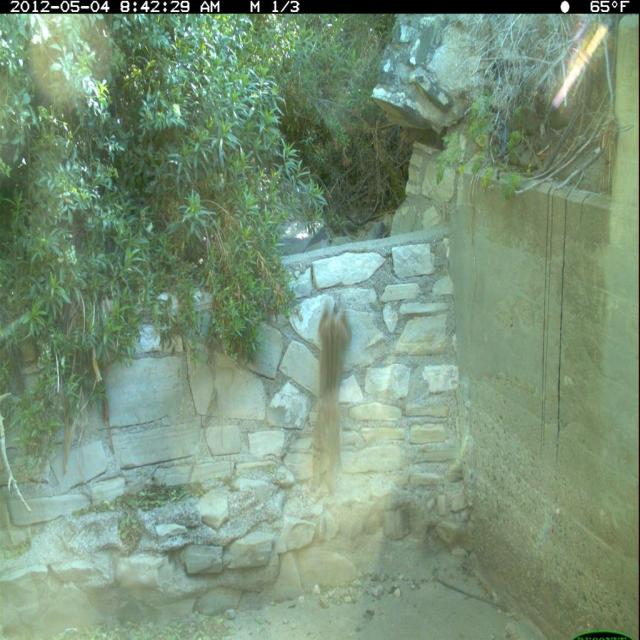bobcat: (301, 291, 356, 506)
